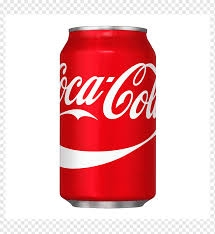can: (56, 24, 158, 210)
